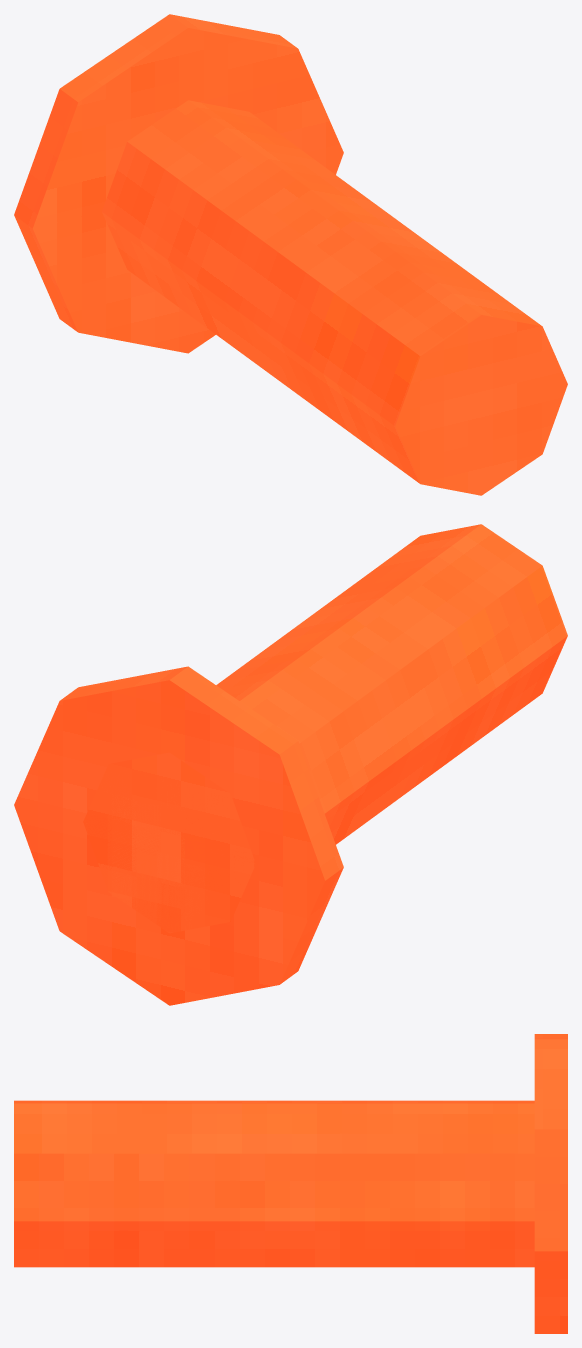
The model's file is fx_kbeam_e.glb.
The picture shows the model from 3 angles, top to bottom: view 1: azimuth 30°, elevation 25°; view 2: azimuth 150°, elevation 25°; view 3: azimuth 270°, elevation 25°; orthographic projection. The views are drawn at different scales.
Visible parts, largest first — view 1: fx_kbeam_e; view 2: fx_kbeam_e; view 3: fx_kbeam_e.
Part boxes in pixels (left/top/right/bottom): fx_kbeam_e: left=14, top=14, right=567, bottom=495; fx_kbeam_e: left=14, top=524, right=567, bottom=1005; fx_kbeam_e: left=14, top=1034, right=567, bottom=1333.
Size of the model in its own units: 0.576 by 0.576 by 1.
1 material, 1 textured.
